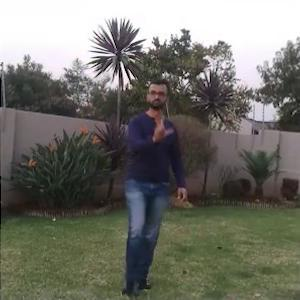land_hand: (145, 103, 176, 146)
